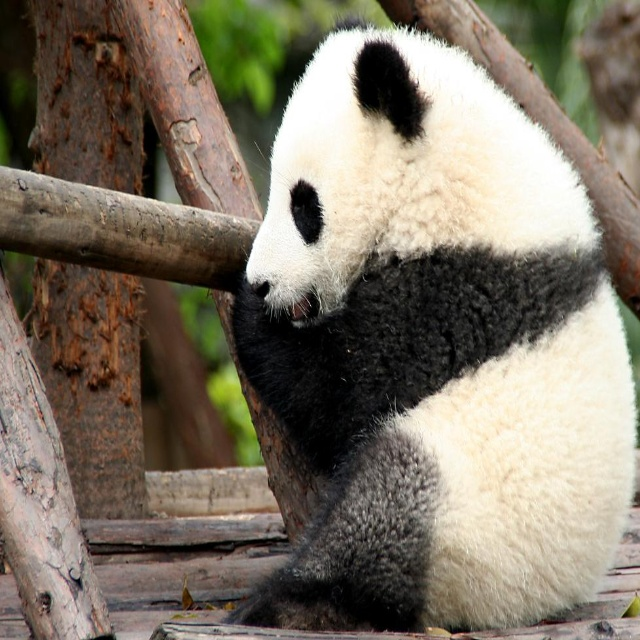Panda: (224, 18, 635, 629)
